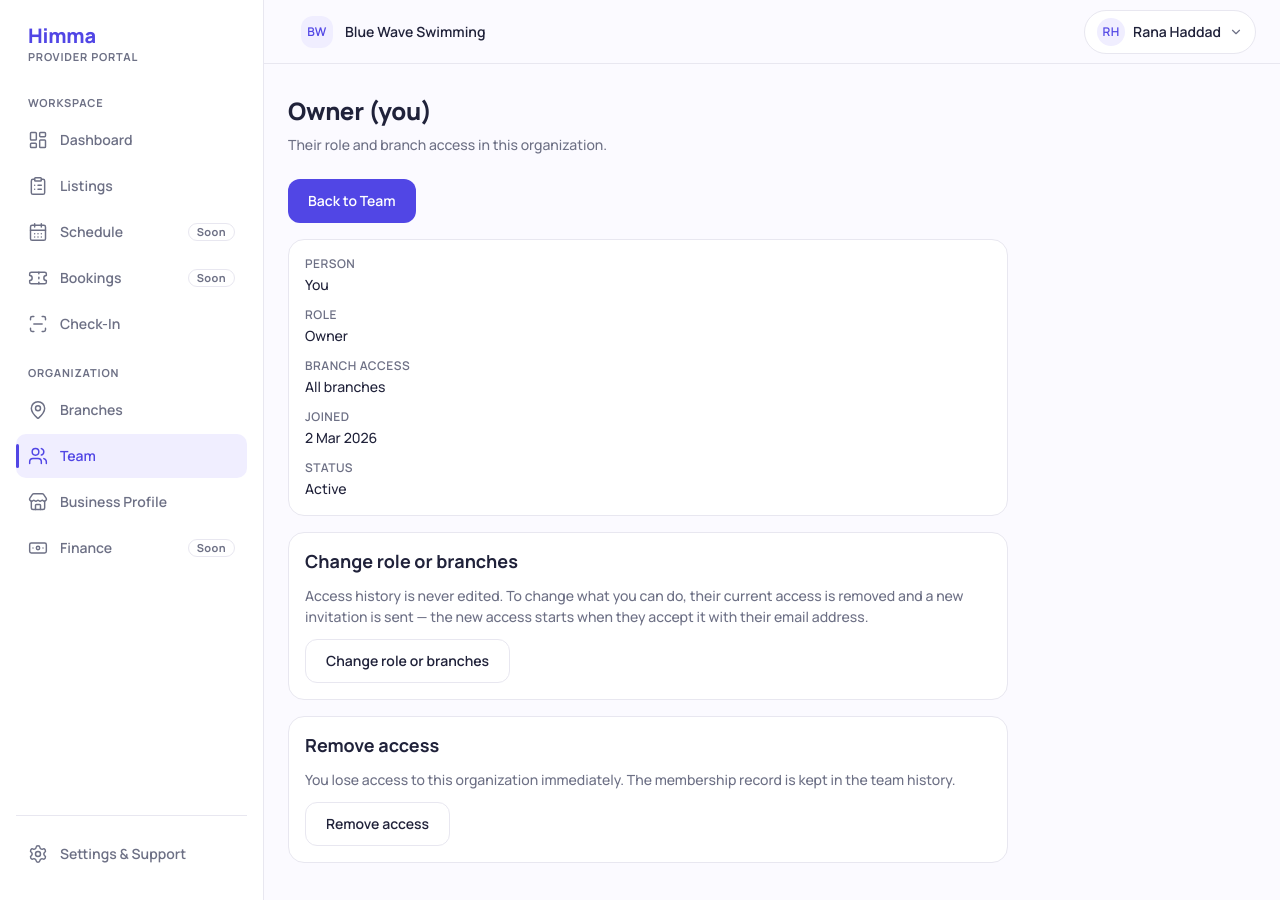
Test: team member detail (W2-6) › the caller's own row is recognized ('you') and self-removal carries the explicit warning
Expected: the heading "Owner (you)" is shown, left=288, top=94, right=432, bottom=127
Step 1. Click the button "Remove access" → [378, 824], box left=305, top=802, right=450, bottom=846
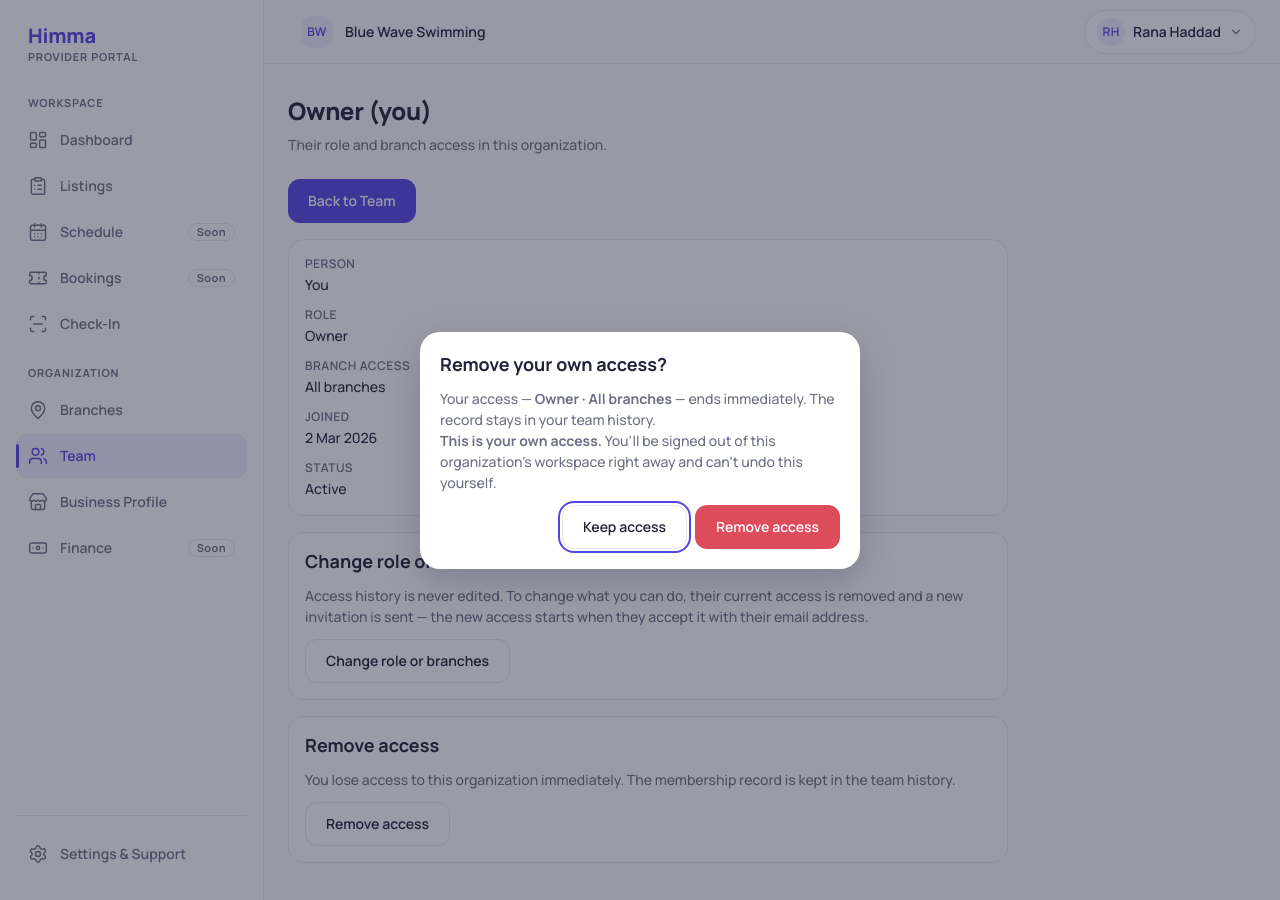
Result: the text "This is your own access." is shown at left=440, top=430, right=602, bottom=450
Result: the text "signed out of this organization" is shown at left=440, top=430, right=803, bottom=492
